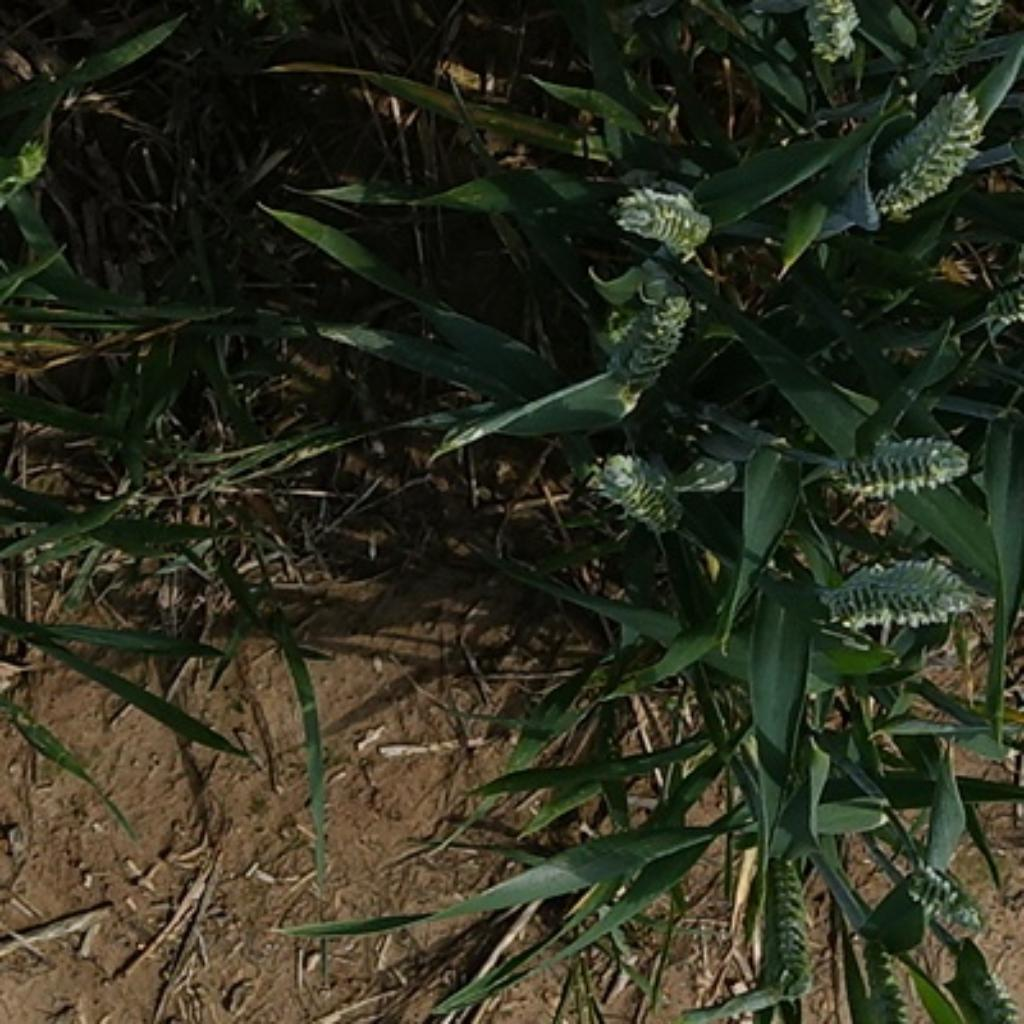0-0: (862, 81, 993, 220), (811, 540, 995, 632), (824, 422, 983, 496), (747, 847, 821, 995), (596, 286, 696, 389), (599, 174, 721, 253), (588, 442, 691, 535), (893, 849, 995, 936), (911, 0, 1011, 71), (854, 944, 922, 1023), (788, 0, 865, 64), (985, 261, 1024, 351)
